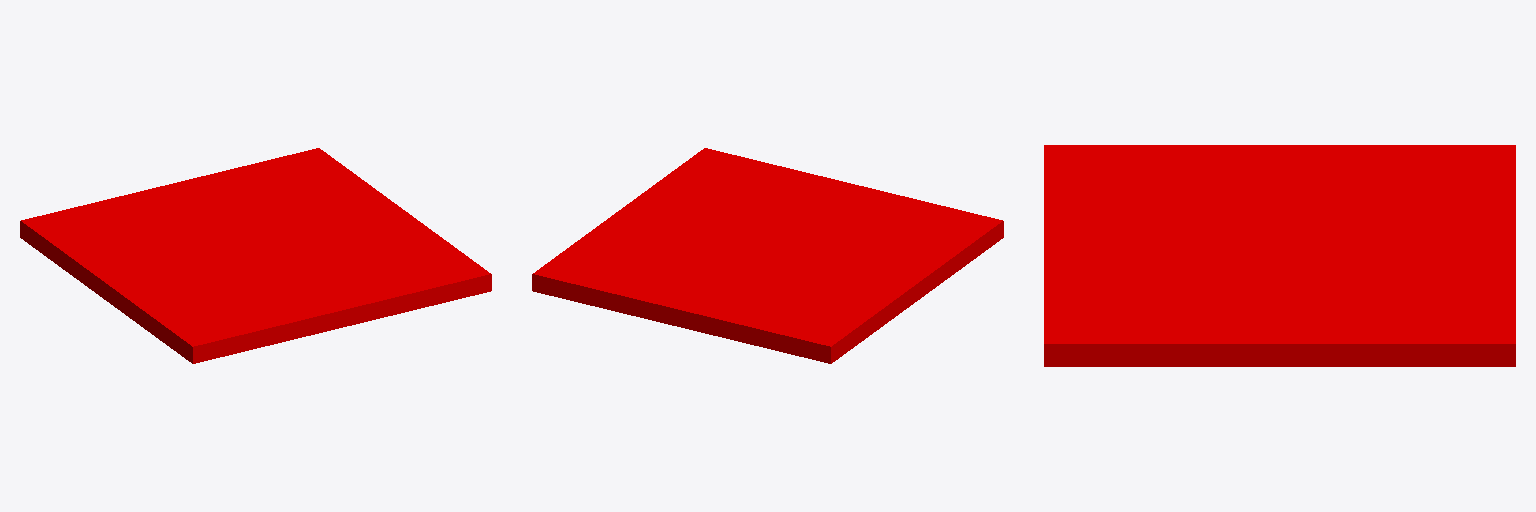
URDF robot description (table.urdf):
<?xml version="0.0" ?>
<robot name="table.urdf">
  <link name="baseLink">
    <contact>
      <lateral_friction value="1.0"/>
    </contact>
    <inertial>
      <origin rpy="0 0 0" xyz="0 0 0"/>
      <mass value=".200"/>
      <inertia ixx="1" ixy="0" ixz="0" iyy="1" iyz="0" izz="1"/>
    </inertial>
    <visual>
      <origin rpy="0 0 0" xyz="0 0 -0.025"/>
      <geometry>
        <box size="0.09 .09 0.005"/>
      </geometry>
       <material name="red">
        <color rgba="0.96 0.0 0.0 1"/>
      </material>
    </visual>
    <collision>
      <origin rpy="0 0 0" xyz="0 0 -0.025"/>
      <geometry>
         <box size="0.09 .09 0.005"/>
      </geometry>
    </collision>
  </link>
</robot>

--- Facts derived from the render (not from the file) ---
Views: 3 orthographic renders of the robot side by side, from view 1: azimuth 30°, elevation 25°; view 2: azimuth 150°, elevation 25°; view 3: azimuth 270°, elevation 25°.
Model table.urdf with 1 links and 0 joints (none), rooted at baseLink, posed all joints at 0.
Links seen in each view (by area): view 1: baseLink; view 2: baseLink; view 3: baseLink.
Boxes of the visible links, left/top/right/bottom form: baseLink: left=20, top=148, right=491, bottom=363; baseLink: left=532, top=148, right=1003, bottom=363; baseLink: left=1044, top=145, right=1515, bottom=366.
Bounding box of the posed robot: 0.09 × 0.09 × 0.005 m (x, y, z).
Geometry: primitives only (box / cylinder / sphere), no mesh files.